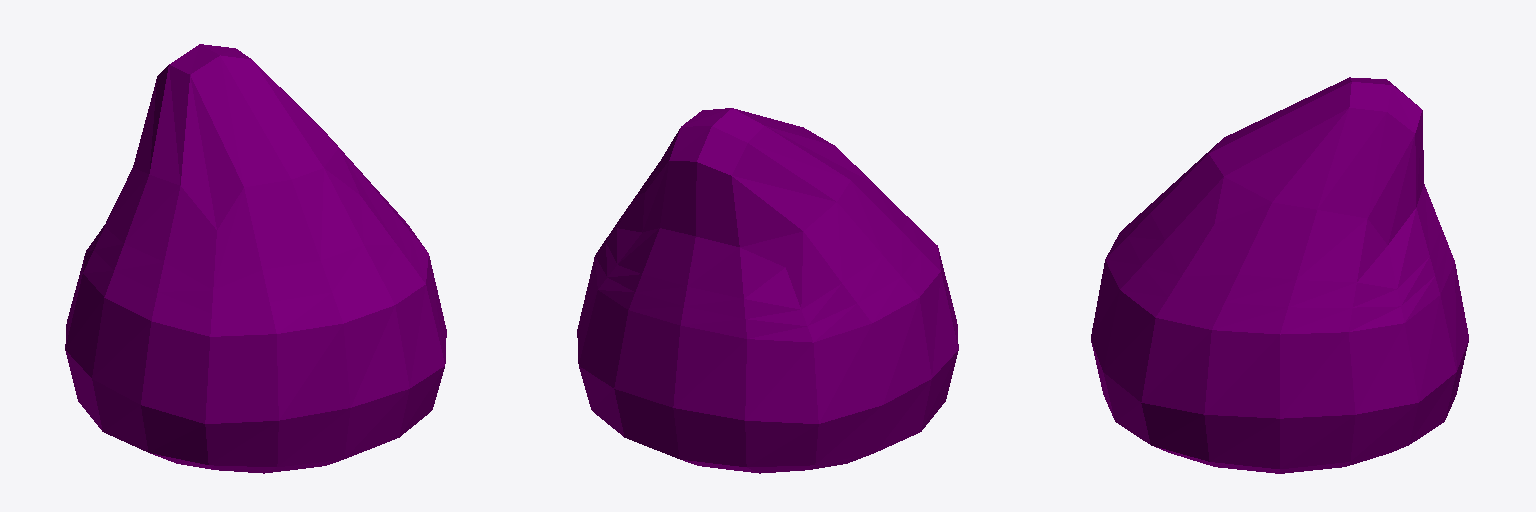
Rendered from slime.obj.
The picture shows the model from 3 angles: view 1: azimuth 30°, elevation 25°; view 2: azimuth 150°, elevation 25°; view 3: azimuth 270°, elevation 25°; orthographic projection.
Parts seen in each view (by area): view 1: pCube1; view 2: pCube1; view 3: pCube1.
Boxes of the visible parts, box(x1,y1,x2,y2) form: pCube1: box(65, 44, 446, 473); pCube1: box(577, 108, 958, 473); pCube1: box(1091, 77, 1468, 473).
Bounding box in the file's own units: 0.8785 × 0.892 × 0.8785.